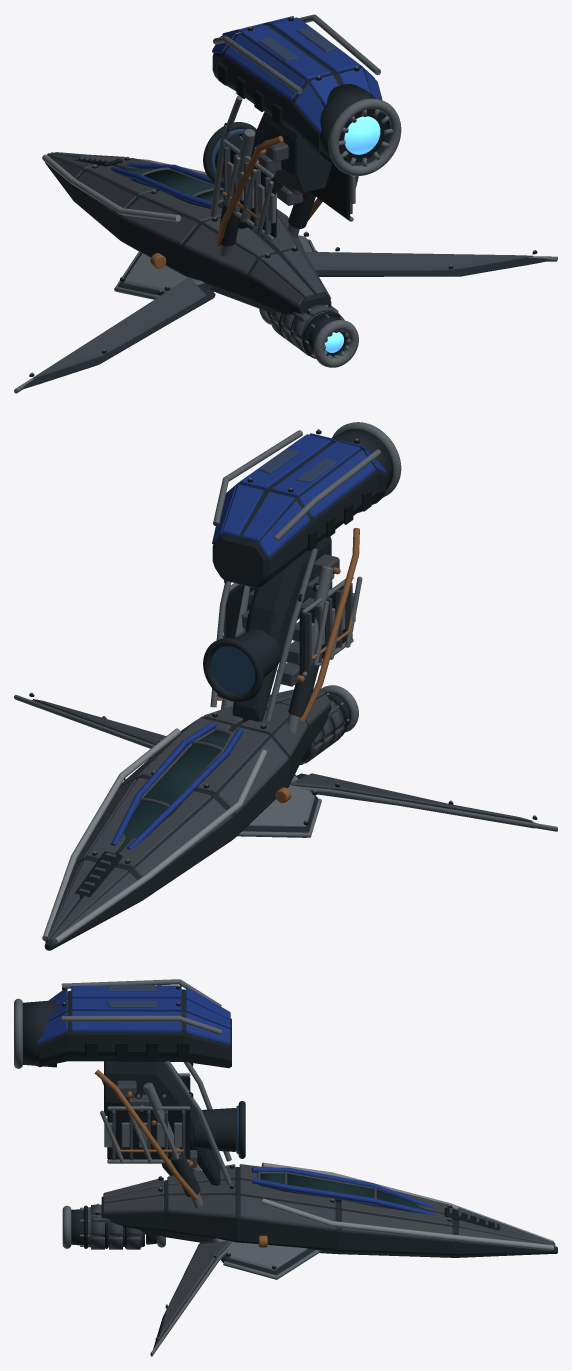
Rendered from spearhead.glb.
3 views of the same model, one above another, from view 1: azimuth 30°, elevation 25°; view 2: azimuth 150°, elevation 25°; view 3: azimuth 270°, elevation 25° (orthographic). The views are drawn at different scales.
Parts seen in each view (by area): view 1: spearhead; view 2: spearhead; view 3: spearhead.
Boxes of the visible parts, x1,y1,x2,y2 form: spearhead: [14, 14, 557, 393]; spearhead: [14, 422, 557, 950]; spearhead: [14, 979, 557, 1356].
Size of the model in its own units: 4.59 by 2.46 by 4.68.
